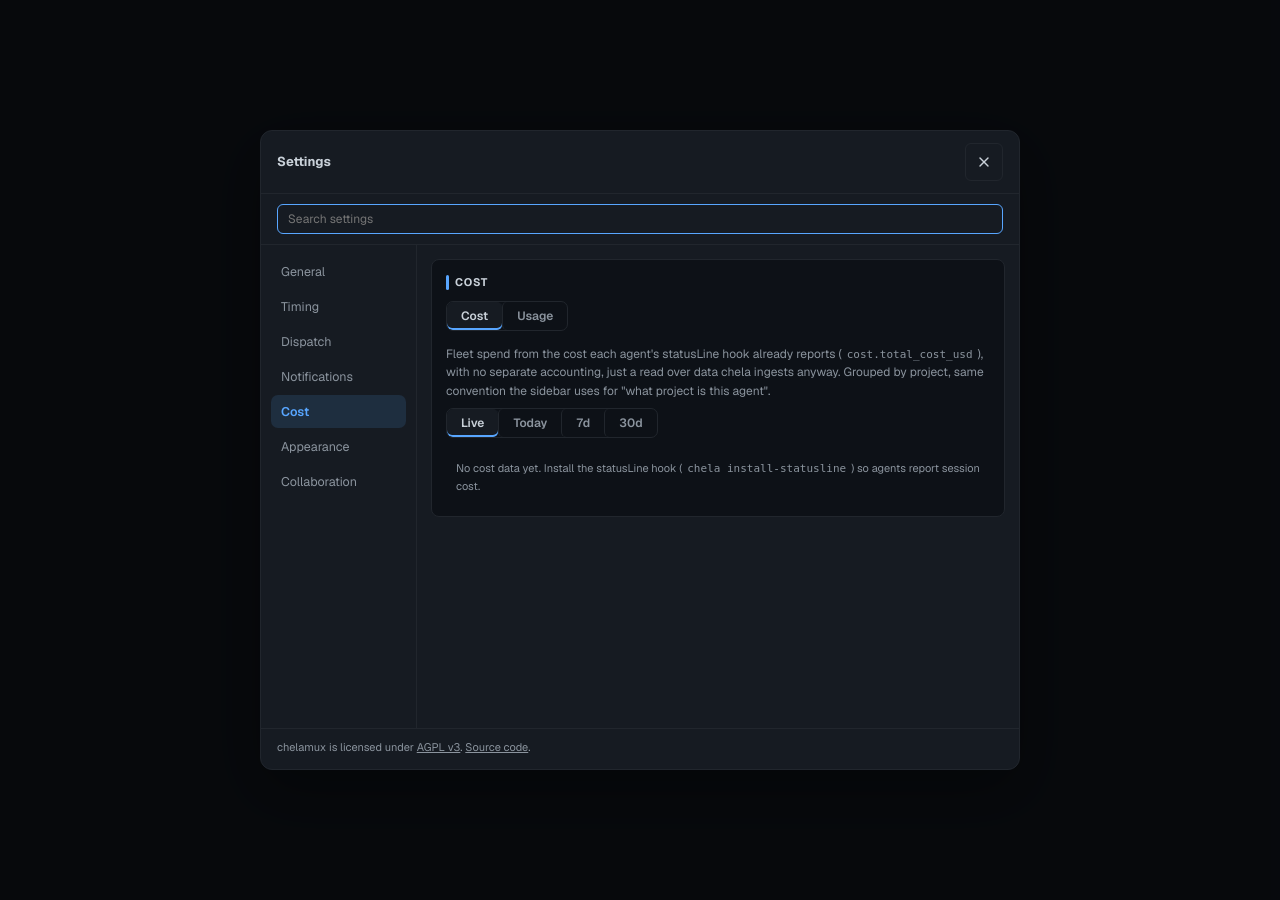
Scenario: a non-array /api/cost reads as no data, not a throw; a failed read says unavailable
Expected: the element with id "cost-table" shows "No cost data yet", [456,461,682,475]
Step 1. Click the button "Today" → (530,423), box [498,409,561,437]
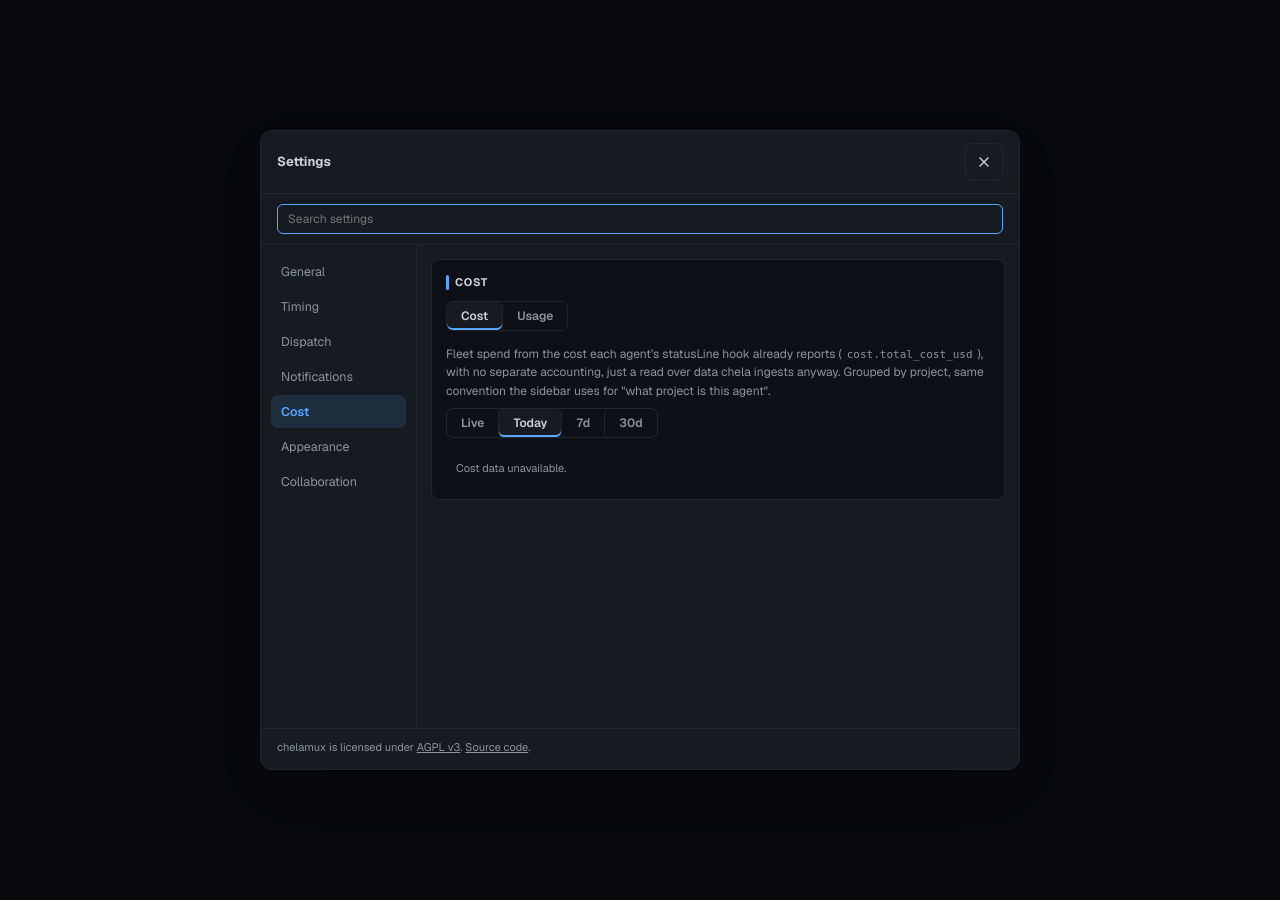
Now the element with id "cost-table" reads "Cost data unavailable.", box [456,461,566,475]
